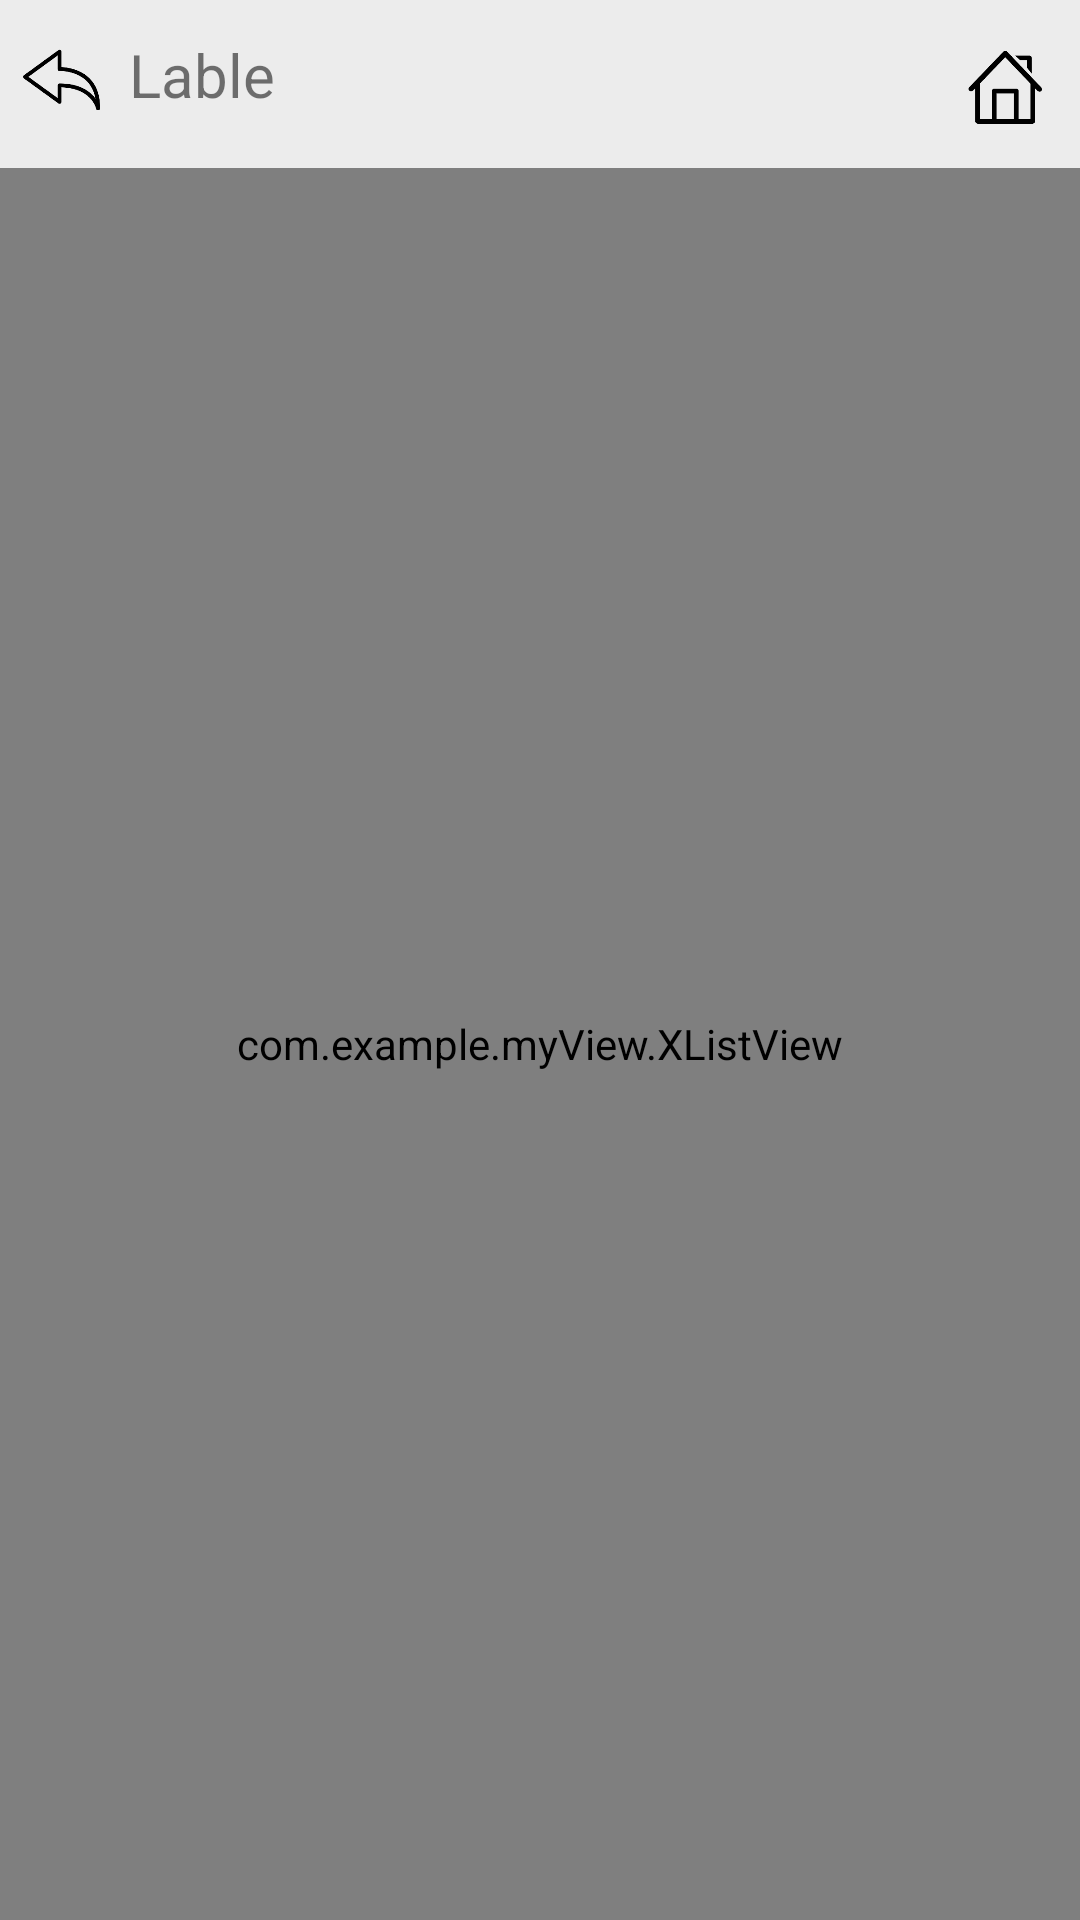

Named icons in this screenshot (1080px x 1920px) and their centers, (x=x, y=y):
homepage: (x=1005, y=87)
